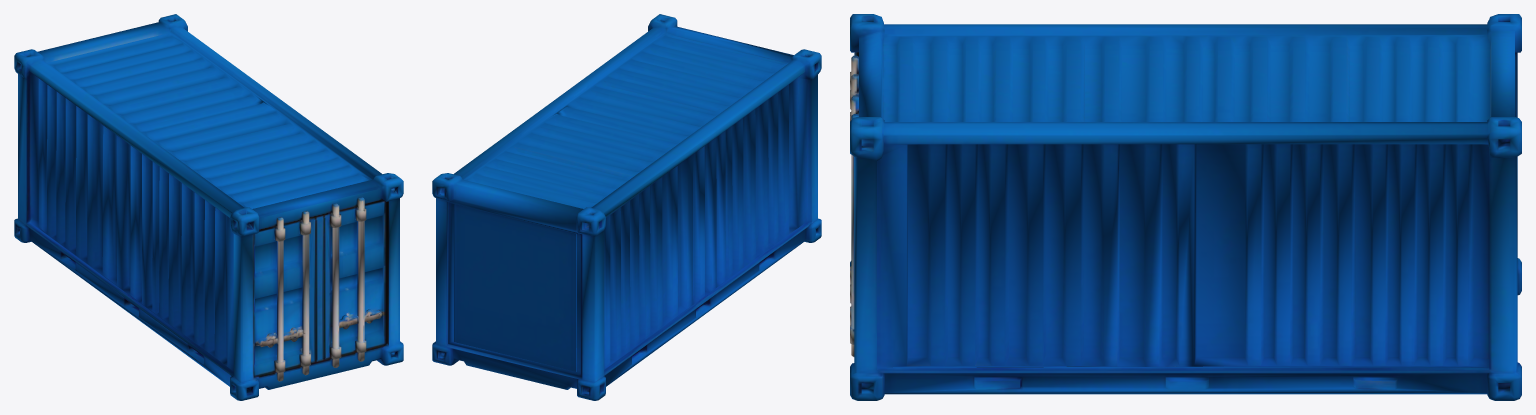
File: blue_shipping_container_63cc3905_v1.glb
3 views of the same model, side by side, from view 1: azimuth 30°, elevation 25°; view 2: azimuth 150°, elevation 25°; view 3: azimuth 270°, elevation 25° (orthographic). The views are drawn at different scales.
Visible parts, largest first — view 1: material; view 2: material; view 3: material.
Part boxes in pixels (box(x1,y1,x2,y2)): material: box(14, 14, 403, 400); material: box(432, 14, 821, 400); material: box(850, 14, 1521, 400).
Bounding box in the file's own units: 0.8025 × 0.8475 × 1.9.
1 material, 1 textured.
